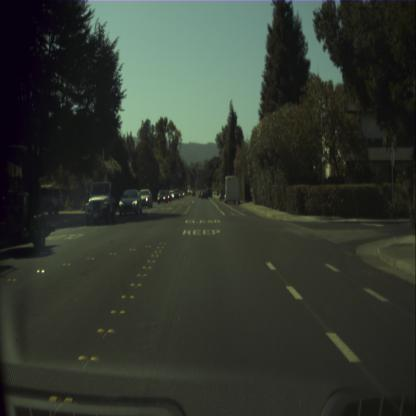Yellow: (202, 170, 204, 176)
